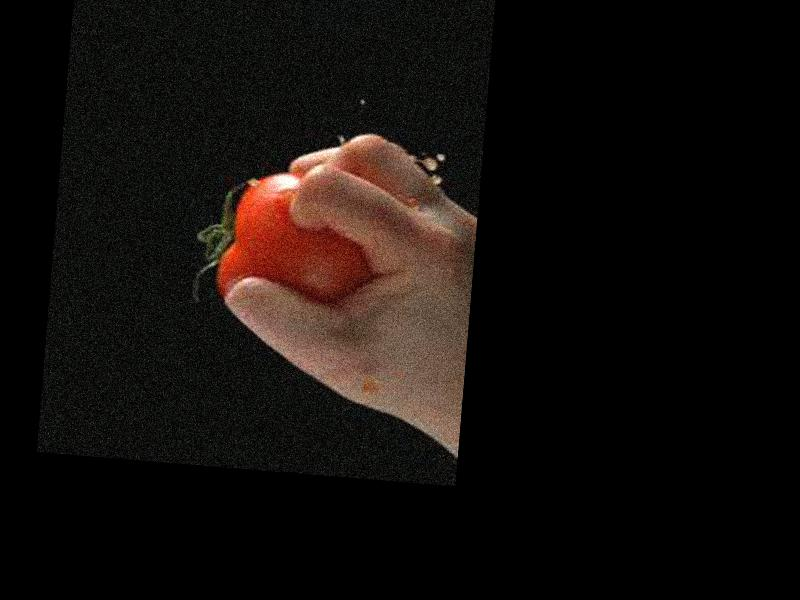Tomato: (215, 168, 377, 310)
